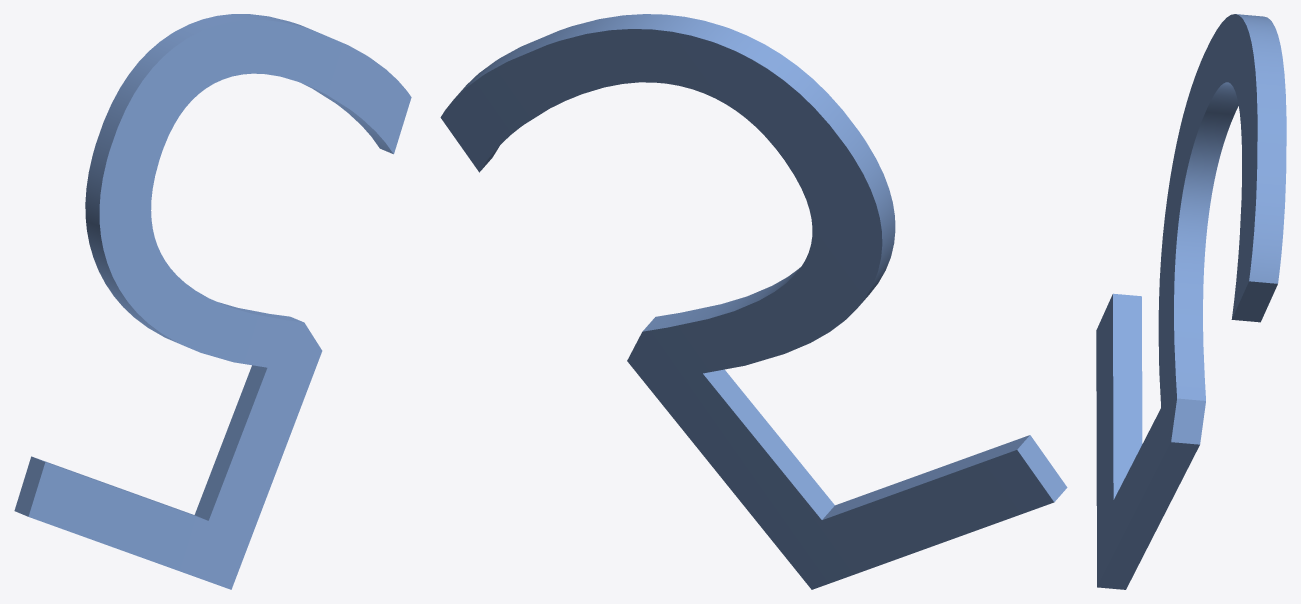
The model's file is Sub_2_Cell_2_3_New_Number_5.gltf.
3 views of the same model, side by side, from view 1: azimuth 30°, elevation 25°; view 2: azimuth 150°, elevation 25°; view 3: azimuth 270°, elevation 25° (orthographic). The views are drawn at different scales.
Visible parts, largest first — view 1: Part 140; view 2: Part 140; view 3: Part 140.
Boxes of the visible parts, x1,y1,x2,y2 form: Part 140: [14, 14, 411, 589]; Part 140: [440, 14, 1067, 589]; Part 140: [1096, 14, 1286, 589].
Bounding box in the file's own units: 0.00524 × 0.00564 × 0.00166.
